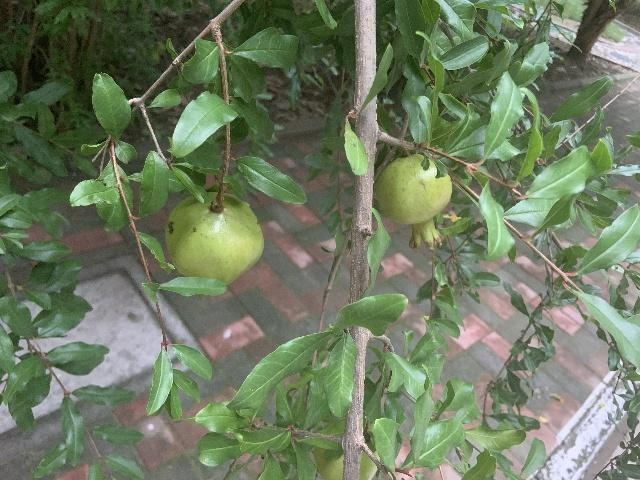mid-growth: (164, 192, 263, 300), (374, 153, 451, 250)
